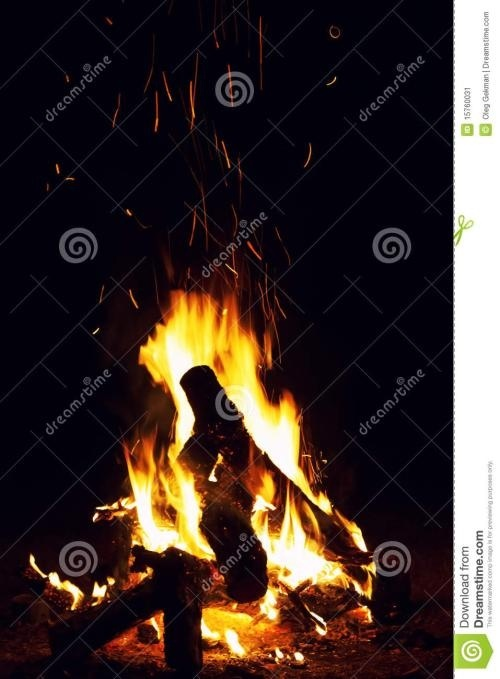fire: (99, 276, 371, 638), (27, 552, 87, 611)
